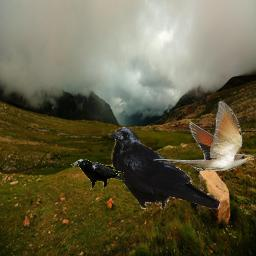Crow: (108, 127, 220, 209), (71, 159, 125, 190)
Cuckoo: (153, 101, 254, 171)
